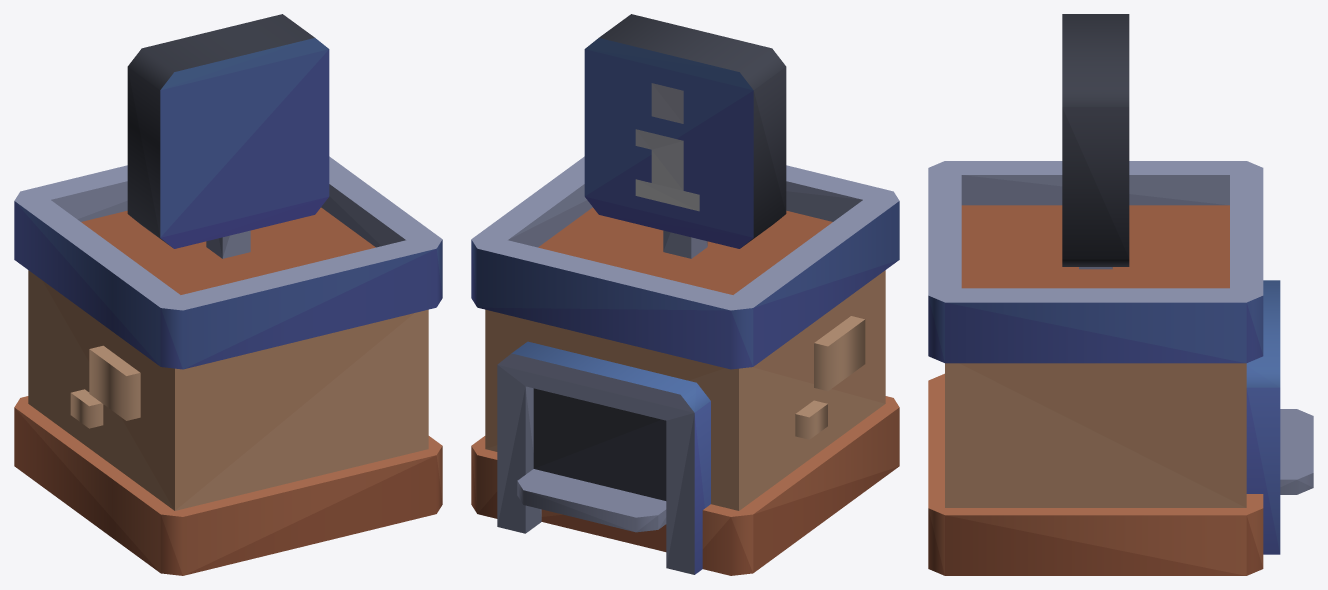
Rendered from coaster_stall_information.glb.
The picture shows the model from 3 angles, left to right: view 1: azimuth 30°, elevation 25°; view 2: azimuth 150°, elevation 25°; view 3: azimuth 270°, elevation 25°; orthographic projection. The views are drawn at different scales.
Parts seen in each view (by area): view 1: coaster_stall_information; view 2: coaster_stall_information; view 3: coaster_stall_information.
Boxes of the visible parts, bbox=[...] form: coaster_stall_information: bbox=[14, 14, 442, 575]; coaster_stall_information: bbox=[471, 14, 899, 575]; coaster_stall_information: bbox=[928, 14, 1313, 575].
Size of the model in its own units: 1 by 1.5 by 1.15.
